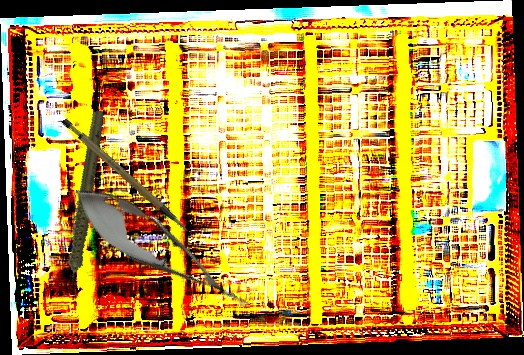Handpiece: (20, 108, 143, 300)
Micro Scissor: (60, 170, 263, 329)
Scalpel Handle: (59, 103, 190, 251)
